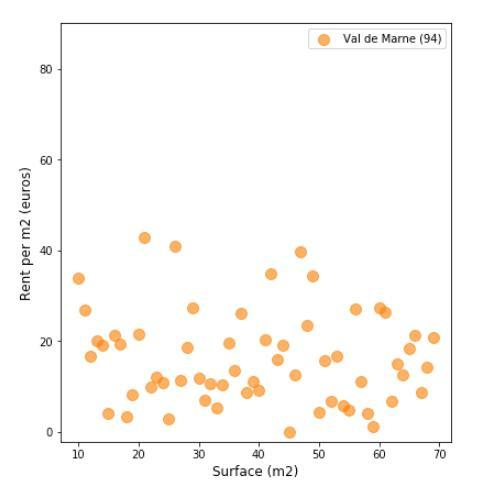axis: (55, 436, 456, 449), (55, 19, 67, 448)
point: (167, 237, 185, 255), (137, 228, 154, 246), (82, 349, 99, 365), (77, 303, 93, 318), (258, 332, 274, 347), (427, 329, 442, 345), (161, 411, 178, 425), (132, 328, 147, 343), (157, 375, 172, 390), (222, 335, 237, 350), (253, 384, 268, 399), (415, 385, 430, 400), (408, 327, 423, 342), (360, 407, 376, 421), (354, 375, 370, 389), (348, 302, 364, 316), (305, 269, 321, 283), (263, 267, 279, 281), (204, 374, 217, 391), (293, 246, 310, 259), (96, 339, 111, 353), (108, 328, 123, 342), (113, 338, 128, 352), (174, 374, 188, 389), (228, 364, 243, 378), (288, 368, 303, 382), (271, 353, 286, 367), (234, 307, 249, 321), (186, 301, 201, 315), (301, 319, 316, 333), (283, 424, 297, 439), (366, 420, 381, 434), (385, 394, 399, 409), (390, 357, 405, 371), (420, 361, 435, 375), (373, 301, 388, 315), (395, 369, 411, 382), (402, 342, 418, 355), (181, 341, 195, 355), (210, 401, 224, 415), (216, 378, 230, 392), (101, 407, 116, 420), (120, 410, 135, 423), (247, 375, 262, 388), (239, 386, 254, 399), (277, 338, 290, 353), (329, 350, 344, 363), (312, 407, 327, 420), (342, 404, 357, 417), (125, 389, 141, 401), (72, 272, 86, 285), (144, 381, 159, 393), (324, 395, 339, 407), (378, 307, 393, 319), (151, 371, 164, 384), (199, 394, 212, 407), (318, 354, 331, 367), (337, 399, 350, 412), (90, 334, 104, 346), (194, 372, 206, 386)
